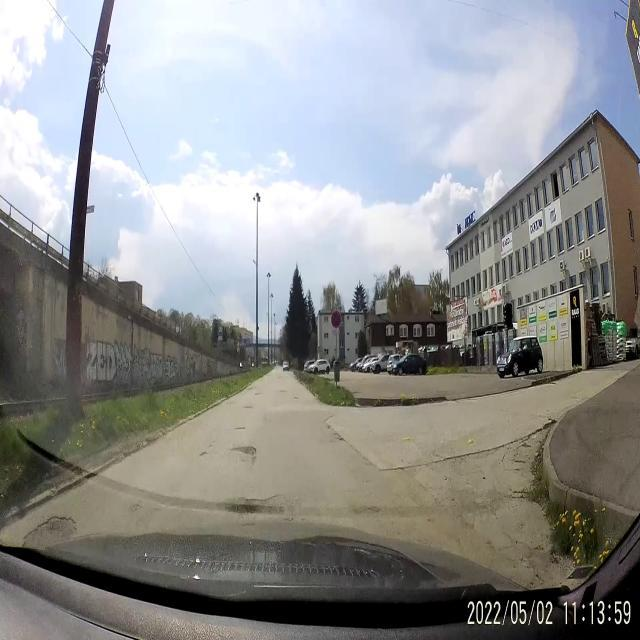Pothole: (26, 495, 81, 549), (223, 488, 288, 531), (324, 412, 346, 447), (230, 439, 260, 461), (232, 418, 245, 436)
